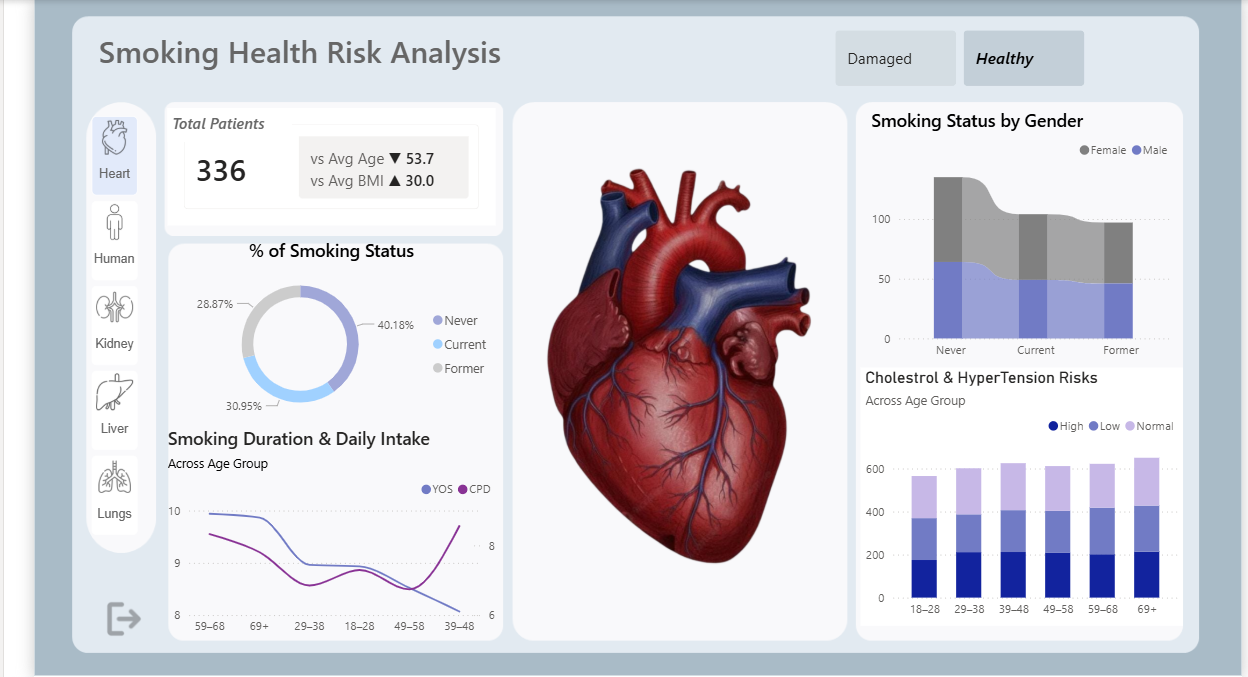

The page's visual inventory and layout, read from the dashboard file:
{"tool":"powerbi","page":{"name":"Page 1","canvas":[1280,720],"ordinal":0},"visuals":[{"type":"cardVisual","fields":{"Data":["CountNonNull(health_dataset.Patient_ID)"]},"box":[141.7,115.3,347.7,124.7],"z":0},{"type":"textbox","box":[141.7,115.3,132.3,35.9],"z":1000},{"type":"advancedSlicerVisual","fields":{"Values":["condition.Organ_Condition"]},"box":[844.7,26.5,275.9,69.9],"z":2000},{"type":"ChicletSlicer1448559807354","fields":{"Category":["Organs.Organ"],"Image":["Organs.Icon_URL"]},"box":[52.9,115.3,88.8,480],"z":3000},{"type":"image","box":[517.8,115.3,326.9,548],"z":4000},{"type":"donutChart","title":"% of Smoking Status","fields":{"Category":["health_dataset.Smoking_Status"],"Y":["CountNonNull(health_dataset.Smoking_Status)"]},"box":[136.1,253.2,357.2,198.4],"z":5000},{"type":"lineChart","title":"Smoking Duration & Daily Intake","fields":{"Category":["health_dataset.Age Group"],"Y":["Avg(health_dataset.Years_of_Smoking)"],"Y2":["Avg(health_dataset.Cigarettes_Per_Day)"]},"box":[136.1,451.7,357.2,230.6],"z":6000},{"type":"ribbonChart","title":"Smoking Status by Gender","fields":{"Category":["health_dataset.Smoking_Status"],"Y":["CountNonNull(health_dataset.Patient_ID)"],"Series":["health_dataset.Gender"]},"box":[882.5,115.3,328.8,274],"z":7000},{"type":"columnChart","title":"Cholestrol & HyperTension Risks","fields":{"Category":["health_dataset.Age Group"],"Y":["Avg(health_dataset.Cholesterol_Level)"],"Series":["health_dataset.BP_Risk"]},"box":[876.9,389.3,342,274],"z":8000},{"type":"textbox","box":[64.3,26.5,500.8,69.9],"z":8001}]}

Visuals, with their boxes on the page's 1280x720 design canvas (x1, y1, x2, y2). These are canvas units, not pixel positions in the 1248x677 screenshot, which may show the page scaled, cropped or inside an application window:
cardVisual - CountNonNull(health_dataset.Patient_ID): (left=142, top=115, right=489, bottom=240)
textbox: (left=142, top=115, right=274, bottom=151)
advancedSlicerVisual - condition.Organ_Condition: (left=845, top=26, right=1121, bottom=96)
ChicletSlicer1448559807354 - Organs.Organ x Organs.Icon_URL: (left=53, top=115, right=142, bottom=595)
image: (left=518, top=115, right=845, bottom=663)
"% of Smoking Status" donutChart: (left=136, top=253, right=493, bottom=452)
"Smoking Duration & Daily Intake" lineChart: (left=136, top=452, right=493, bottom=682)
"Smoking Status by Gender" ribbonChart: (left=882, top=115, right=1211, bottom=389)
"Cholestrol & HyperTension Risks" columnChart: (left=877, top=389, right=1219, bottom=663)
textbox: (left=64, top=26, right=565, bottom=96)
